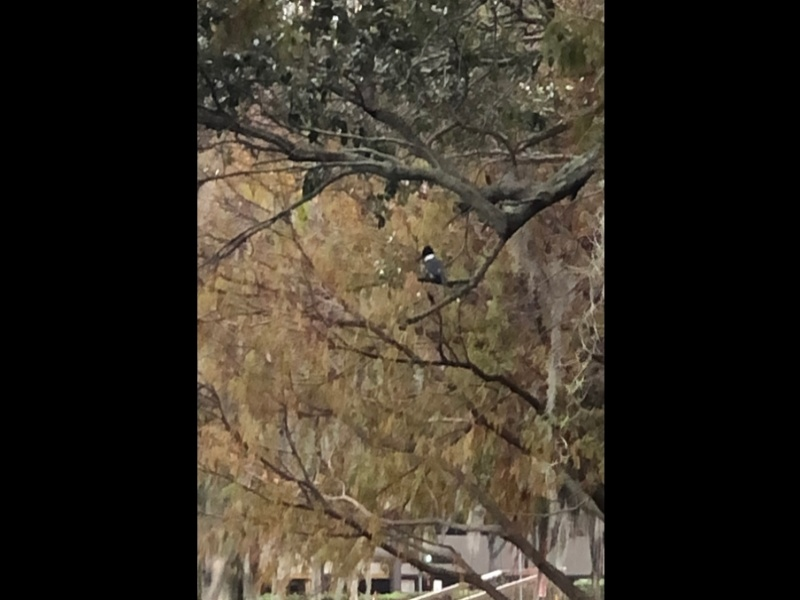kingfisher: (417, 244, 443, 279)
